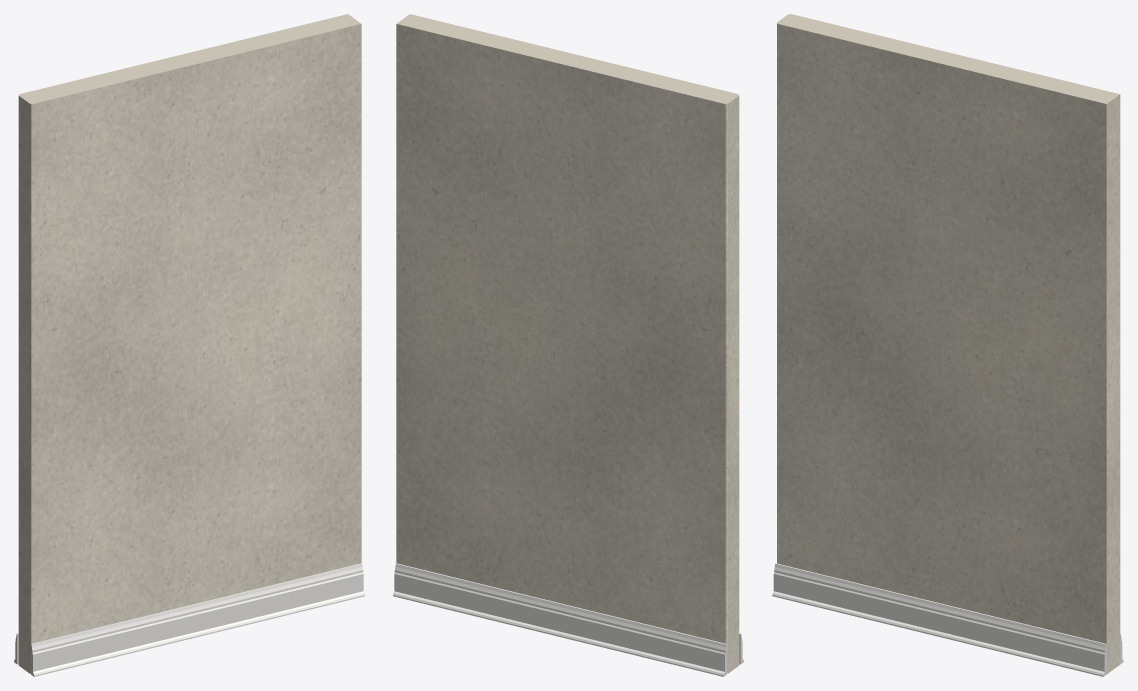
File: interior_wall_end.glb
3 views of the same model, side by side, from view 1: azimuth 30°, elevation 25°; view 2: azimuth 150°, elevation 25°; view 3: azimuth 330°, elevation 25° (orthographic).
Parts seen in each view (by area): view 1: interior_wall_end_plaster, molduras; view 2: interior_wall_end_plaster, molduras; view 3: interior_wall_end_plaster, molduras.
Part boxes in pixels (x1,y1,x2,y2): interior_wall_end_plaster: [18, 14, 361, 673]; molduras: [14, 563, 364, 676]; interior_wall_end_plaster: [396, 14, 739, 673]; molduras: [393, 563, 743, 676]; interior_wall_end_plaster: [777, 14, 1120, 673]; molduras: [772, 563, 1123, 676].
Bounding box in the file's own units: 1.7 × 2.8 × 0.18.
Materials: 2 (1 with a texture image).
